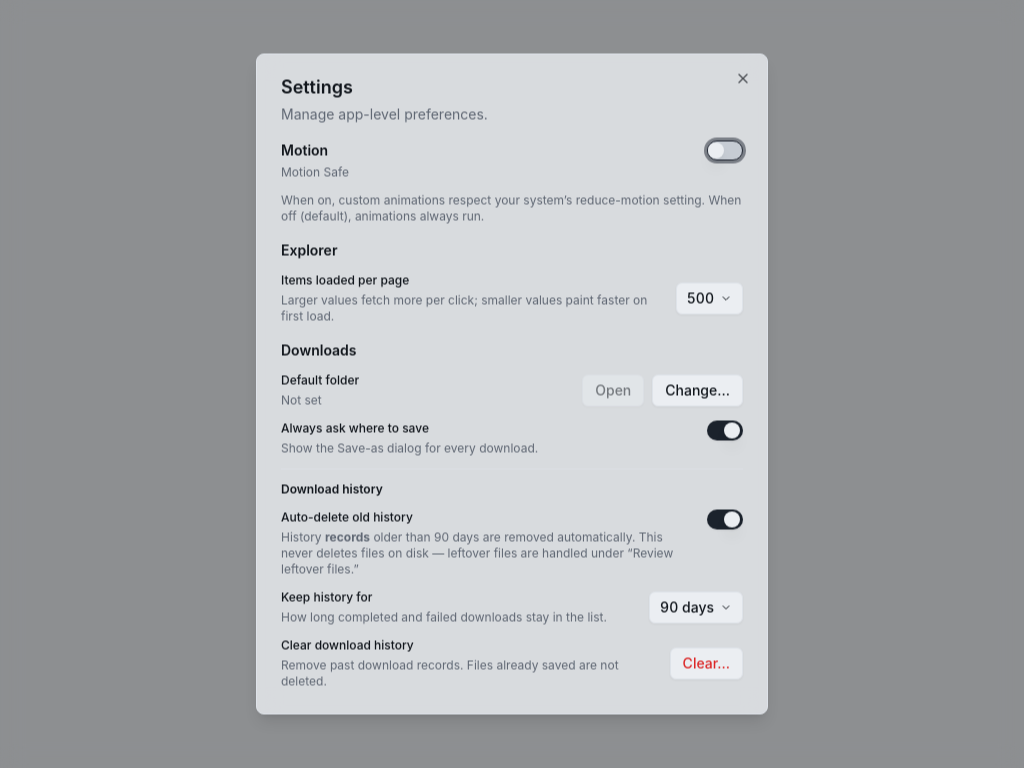
Test: SettingsDialog — Downloads section › toggling the Always-ask Switch OFF (from yes) removes the localStorage key
Click the switch named "always ask where to save" at (725, 430), box [707,420,743,440]
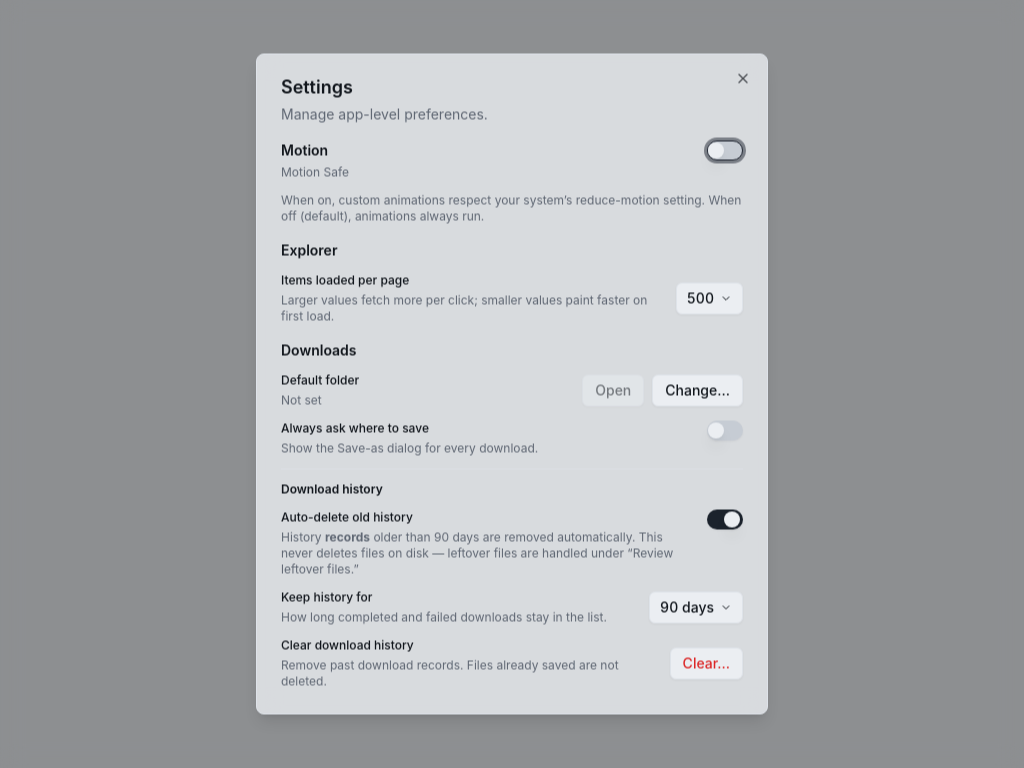
Result: the switch named "always ask where to save" is not checked at [707,420,743,440]
